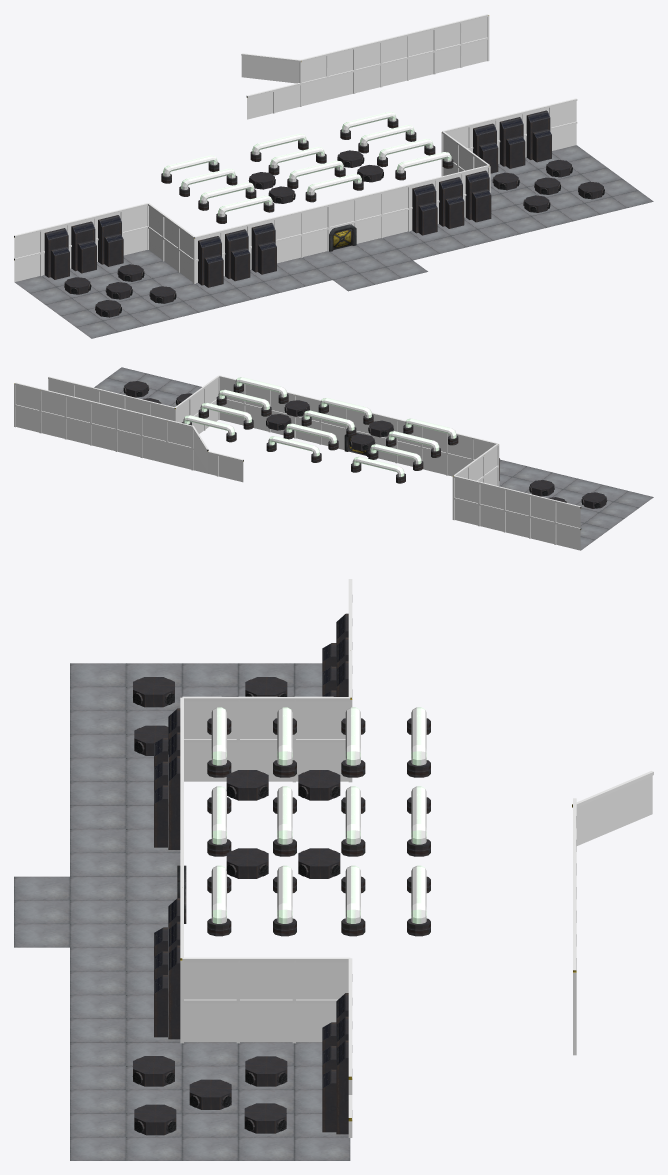
The model's file is MESH_EXTERNAL_LAB_FIRST.fbx.
3 views of the same model, one above another, from view 1: azimuth 30°, elevation 25°; view 2: azimuth 150°, elevation 25°; view 3: azimuth 270°, elevation 25° (orthographic). The views are drawn at different scales.
Parts seen in each view (by area): view 1: MESH_EXTERNAL_WALL.072, MESH_EXTERNAL_EXAUSTOR.006, MESH_EXTERNAL_EXAUSTOR.002, MESH_EXTERNAL_EXAUSTOR.013, MESH_EXTERNAL_EXAUSTOR.015, MESH_EXTERNAL_EXAUSTOR.019, MESH_EXTERNAL_EXAUSTOR.005, MESH_EXTERNAL_EXAUSTOR.020, MESH_EXTERNAL_EXAUSTOR.014, MESH_EXTERNAL_EXAUSTOR.003, MESH_EXTERNAL_EXAUSTOR.004, MESH_EXTERNAL_WALL.071 (+57 smaller); view 2: MESH_EXTERNAL_PIPE_REFRIGERATOR.001, MESH_EXTERNAL_PIPE_REFRIGERATOR.005, MESH_EXTERNAL_PIPE_REFRIGERATOR.008, MESH_EXTERNAL_PIPE_REFRIGERATOR.010, MESH_EXTERNAL_PIPE_REFRIGERATOR.004, MESH_EXTERNAL_PIPE_REFRIGERATOR.012, MESH_EXTERNAL_PIPE_REFRIGERATOR.002, MESH_EXTERNAL_PIPE_REFRIGERATOR.007, MESH_EXTERNAL_PIPE_REFRIGERATOR.006, MESH_EXTERNAL_PIPE_REFRIGERATOR.011, MESH_EXTERNAL_PIPE_REFRIGERATOR.009, MESH_EXTERNAL_WALL.061 (+58 smaller); view 3: MESH_EXTERNAL_WALL.012, MESH_EXTERNAL_WALL.013, MESH_EXTERNAL_WALL.029, MESH_EXTERNAL_WALL.030, MESH_EXTERNAL_WALL.031, MESH_EXTERNAL_WALL.032, MESH_EXTERNAL_WALL.072, MESH_EXTERNAL_WALL.015, MESH_EXTERNAL_WALL.033, MESH_EXTERNAL_WALL.071, MESH_EXTERNAL_WALL.034, ROOM_GROUND_DEFAULT.066 (+64 smaller).
Boxes of the visible parts, bbox=[...] form: MESH_EXTERNAL_WALL.072: bbox=[241, 56, 271, 80]; MESH_EXTERNAL_EXAUSTOR.006: bbox=[412, 183, 436, 233]; MESH_EXTERNAL_EXAUSTOR.002: bbox=[251, 223, 275, 272]; MESH_EXTERNAL_EXAUSTOR.013: bbox=[71, 221, 95, 271]; MESH_EXTERNAL_EXAUSTOR.015: bbox=[44, 228, 68, 277]; MESH_EXTERNAL_EXAUSTOR.019: bbox=[499, 117, 523, 166]; MESH_EXTERNAL_EXAUSTOR.005: bbox=[465, 170, 489, 219]; MESH_EXTERNAL_EXAUSTOR.020: bbox=[526, 110, 550, 159]; MESH_EXTERNAL_EXAUSTOR.014: bbox=[98, 215, 121, 264]; MESH_EXTERNAL_EXAUSTOR.003: bbox=[198, 236, 221, 285]; MESH_EXTERNAL_EXAUSTOR.004: bbox=[439, 177, 462, 226]; MESH_EXTERNAL_WALL.071: bbox=[271, 59, 299, 83]; MESH_EXTERNAL_PIPE_REFRIGERATOR.001: bbox=[216, 389, 271, 416]; MESH_EXTERNAL_PIPE_REFRIGERATOR.005: bbox=[301, 410, 356, 437]; MESH_EXTERNAL_PIPE_REFRIGERATOR.008: bbox=[283, 423, 338, 450]; MESH_EXTERNAL_PIPE_REFRIGERATOR.010: bbox=[403, 418, 458, 445]; MESH_EXTERNAL_PIPE_REFRIGERATOR.004: bbox=[198, 402, 253, 429]; MESH_EXTERNAL_PIPE_REFRIGERATOR.012: bbox=[368, 444, 423, 470]; MESH_EXTERNAL_PIPE_REFRIGERATOR.002: bbox=[233, 377, 288, 403]; MESH_EXTERNAL_PIPE_REFRIGERATOR.007: bbox=[266, 436, 321, 462]; MESH_EXTERNAL_PIPE_REFRIGERATOR.006: bbox=[318, 398, 373, 424]; MESH_EXTERNAL_PIPE_REFRIGERATOR.011: bbox=[351, 456, 405, 483]; MESH_EXTERNAL_PIPE_REFRIGERATOR.009: bbox=[386, 431, 440, 457]; MESH_EXTERNAL_WALL.061: bbox=[142, 437, 167, 463]; MESH_EXTERNAL_WALL.012: bbox=[184, 1003, 236, 1042]; MESH_EXTERNAL_WALL.013: bbox=[240, 1003, 292, 1042]; MESH_EXTERNAL_WALL.029: bbox=[184, 962, 236, 999]; MESH_EXTERNAL_WALL.030: bbox=[240, 962, 292, 999]; MESH_EXTERNAL_WALL.031: bbox=[296, 962, 348, 999]; MESH_EXTERNAL_WALL.032: bbox=[296, 701, 348, 738]; MESH_EXTERNAL_WALL.072: bbox=[613, 775, 652, 830]; MESH_EXTERNAL_WALL.015: bbox=[296, 742, 348, 781]; MESH_EXTERNAL_WALL.033: bbox=[240, 701, 292, 738]; MESH_EXTERNAL_WALL.071: bbox=[576, 792, 612, 845]; MESH_EXTERNAL_WALL.034: bbox=[184, 701, 236, 738]; ROOM_GROUND_DEFAULT.066: bbox=[182, 1113, 238, 1137].
Size of the model in its own units: 84 by 13.13 by 45.65.
